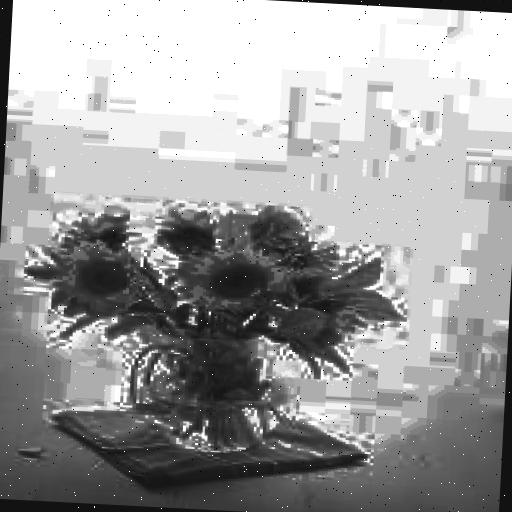sunflower: (51, 236, 144, 318), (176, 248, 294, 311), (154, 208, 223, 252), (64, 208, 130, 250)
